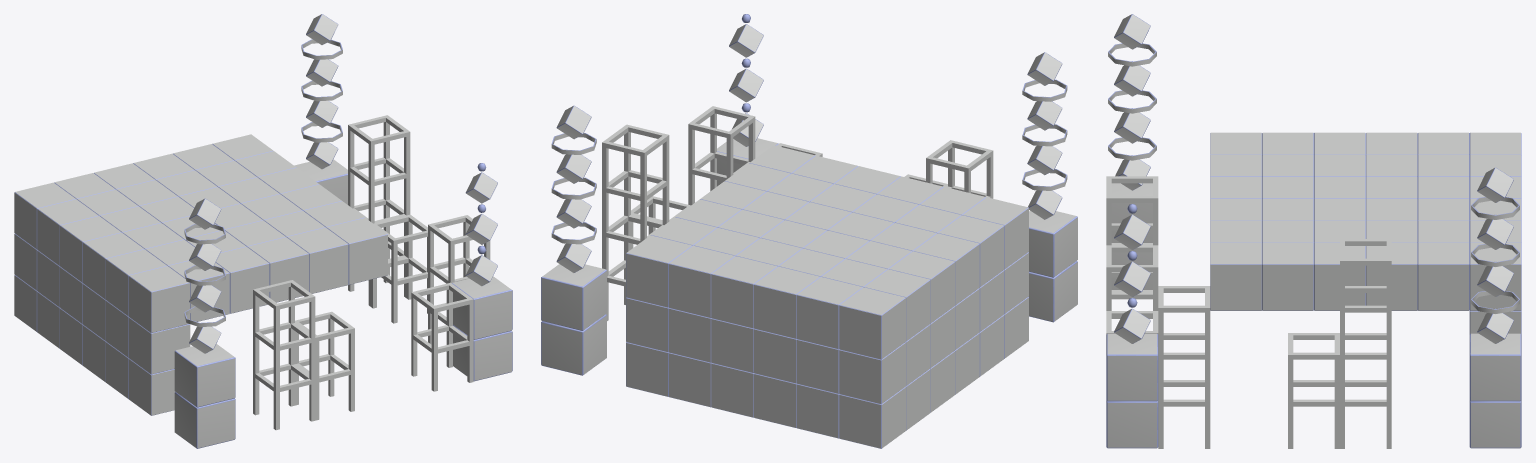
The model's file is StageGroundAssemble_E_SM_A_66.fbx.
The picture shows the model from 3 angles, left to right: view 1: azimuth 30°, elevation 25°; view 2: azimuth 150°, elevation 25°; view 3: azimuth 270°, elevation 25°; orthographic projection. The views are drawn at different scales.
Visible parts, largest first — view 1: stage_void_background_deco_sm_004__1_, stage_void_background_deco_sm, stage_void_background_deco_sm_001__1_, stage_void_background_deco_sm_004, stage_void_background_deco_sm_002, stage_void_background_deco_sm_003, stage_void_block_cover_sm__15_, stage_void_background_deco_sm_003__2_, stage_void_block_cover_sm__8_, stage_void_block_cover_sm__7_, stage_void_background_deco_sm_003__1_, stage_void_block_base_sm__30_ (+45 smaller); view 2: stage_void_background_deco_sm_004, stage_void_background_deco_sm_004__1_, stage_void_background_deco_sm_002, stage_void_block_cover_sm__27_, stage_void_background_deco_sm_001, stage_void_block_base_sm__54_, stage_void_block_base_sm__55_, stage_void_block_cover_sm__28_, stage_void_block_cover_sm__19_, stage_void_block_cover_sm__20_, stage_void_block_cover_sm__18_, stage_void_block_cover_sm__29_ (+53 smaller); view 3: stage_void_background_deco_sm_004, stage_void_background_deco_sm, stage_void_background_deco_sm_004__1_, stage_void_background_deco_sm_002, stage_void_background_deco_sm_001, stage_void_block_cover_sm__23_, stage_void_block_cover_sm__5_, stage_void_block_cover_sm__8_, stage_void_block_cover_sm__26_, stage_void_block_cover_sm__2_, stage_void_background_deco_sm_003__1_, stage_void_block_cover_sm__20_ (+34 smaller).
Boxes of the visible parts, x1,y1,x2,y2 form: stage_void_background_deco_sm_004__1_: (174,198,235,448); stage_void_background_deco_sm: (452,163,512,381); stage_void_background_deco_sm_001__1_: (253,280,315,430); stage_void_background_deco_sm_004: (294,14,347,204); stage_void_background_deco_sm_002: (348,115,410,306); stage_void_background_deco_sm_003: (411,282,473,391); stage_void_block_cover_sm__15_: (128,266,190,332); stage_void_background_deco_sm_003__2_: (295,311,354,420); stage_void_block_cover_sm__8_: (326,218,387,284); stage_void_block_cover_sm__7_: (287,227,348,293); stage_void_background_deco_sm_003__1_: (371,214,427,323); stage_void_block_base_sm__30_: (128,317,190,374); stage_void_background_deco_sm_004: (541,105,606,375); stage_void_background_deco_sm_004__1_: (1022,52,1077,322); stage_void_background_deco_sm_002: (602,124,669,320); stage_void_block_cover_sm__27_: (839,287,905,359); stage_void_background_deco_sm_001: (688,106,755,205); stage_void_block_base_sm__54_: (839,342,905,404); stage_void_block_base_sm__55_: (839,387,905,448); stage_void_block_cover_sm__28_: (796,277,862,349); stage_void_block_cover_sm__19_: (668,245,734,317); stage_void_block_cover_sm__20_: (626,235,692,307); stage_void_block_cover_sm__18_: (711,256,777,328); stage_void_block_cover_sm__29_: (754,266,820,338); stage_void_background_deco_sm_004: (1469,167,1521,448); stage_void_background_deco_sm: (1106,204,1158,448); stage_void_background_deco_sm_004__1_: (1108,14,1156,289); stage_void_background_deco_sm_002: (1340,239,1391,448); stage_void_background_deco_sm_001: (1158,286,1210,448); stage_void_block_cover_sm__23_: (1417,242,1469,310); stage_void_block_cover_sm__5_: (1262,242,1313,310); stage_void_block_cover_sm__8_: (1210,242,1261,310); stage_void_block_cover_sm__26_: (1366,242,1417,310); stage_void_block_cover_sm__2_: (1314,242,1365,310); stage_void_background_deco_sm_003__1_: (1288,333,1339,448); stage_void_block_cover_sm__20_: (1469,242,1521,310).
Bounding box in the file's own units: 3200 × 2300 × 3200.
1 material, 1 textured.
